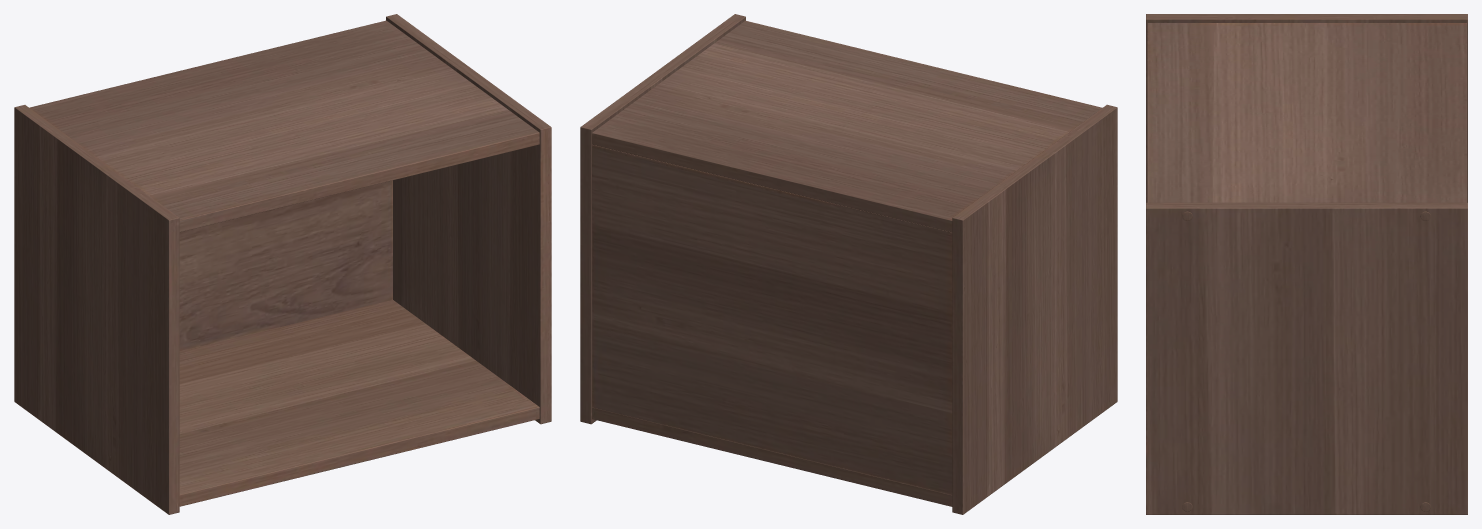
File: abo-B07V152DQ8.glb
3 renders of one model, left to right at view 1: azimuth 30°, elevation 25°; view 2: azimuth 150°, elevation 25°; view 3: azimuth 270°, elevation 25°, orthographic. The views are drawn at different scales.
Size of the model in its own units: 0.415 by 0.305 by 0.29.
1 material, 1 textured.
